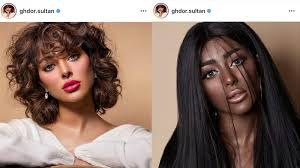middle_eastern_Female: (32, 40, 102, 110)
